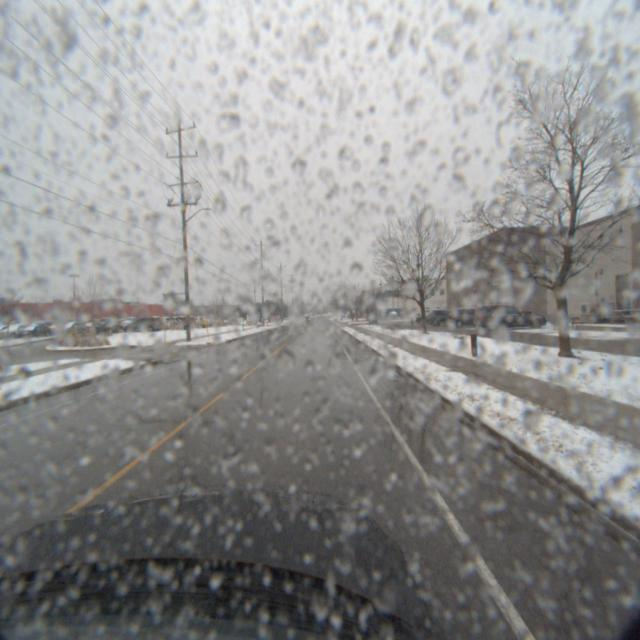Car: (473, 306, 541, 333), (467, 304, 528, 330), (443, 308, 493, 330), (119, 317, 161, 336)
